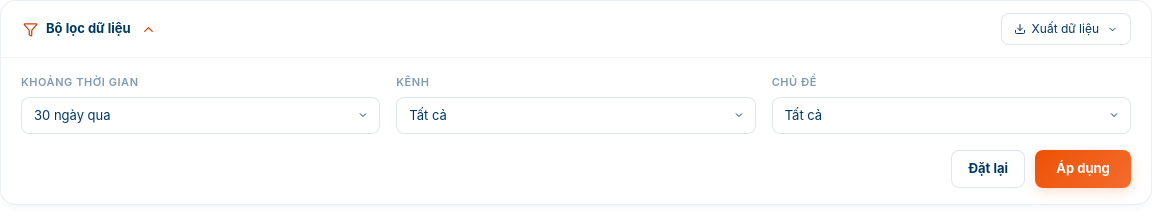
Scenario: FilterPanel › renders the export menu in a portal so it remains usable when the filter is collapsed
Click the button "Xuất dữ liệu" at (1066, 29), box x1=1001 y1=13 x2=1131 y2=45
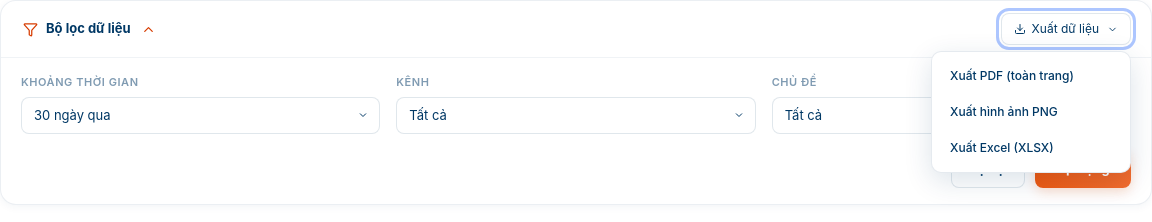
Now the menu with test id "global-filter-export-menu" is shown, box x1=931 y1=51 x2=1131 y2=173
